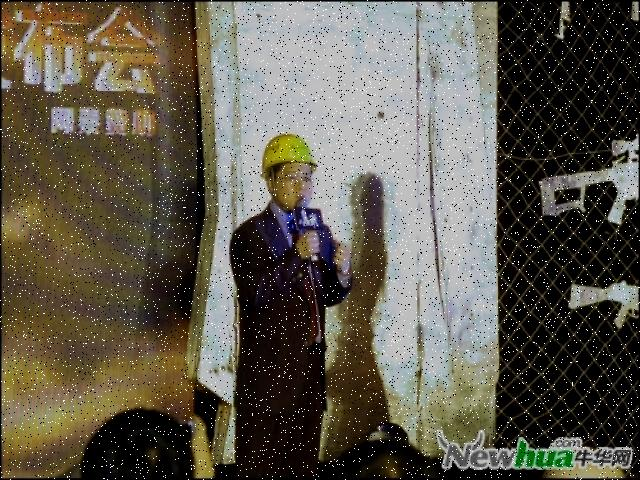Helmet: (255, 129, 320, 182)
